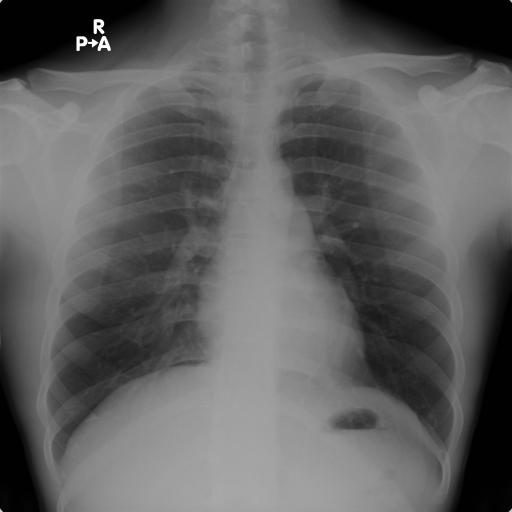normal: (33, 41, 467, 488)
